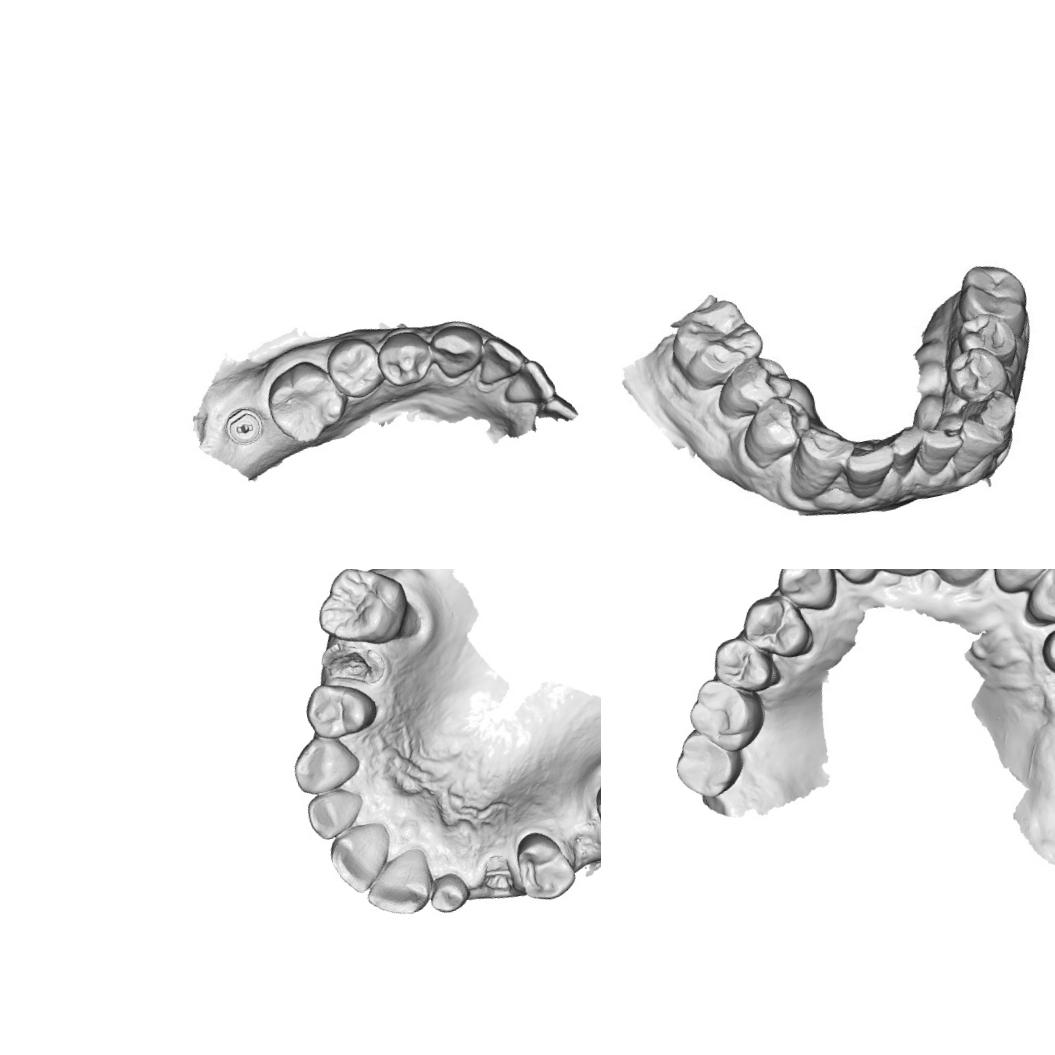canine: (778, 420, 859, 502), (287, 730, 366, 800), (427, 318, 489, 382), (770, 569, 844, 619), (956, 389, 1024, 442), (1018, 569, 1055, 631)
implant_minus: (217, 401, 269, 452)
incisor: (358, 844, 438, 924), (322, 818, 400, 898), (302, 784, 372, 844), (950, 415, 1012, 480), (842, 436, 902, 501), (496, 354, 558, 412), (470, 330, 530, 389), (914, 420, 968, 483), (886, 422, 930, 482), (425, 869, 475, 918), (920, 569, 1019, 593), (981, 569, 1055, 597), (813, 569, 883, 592)
molar: (258, 352, 356, 452), (308, 569, 421, 655), (666, 296, 766, 393), (681, 667, 774, 760), (666, 722, 752, 805), (957, 254, 1031, 334)
premolar: (708, 346, 798, 426), (737, 588, 817, 666), (736, 393, 814, 471), (300, 673, 382, 744), (511, 825, 581, 907), (706, 630, 778, 702), (320, 331, 388, 404), (940, 344, 1014, 405), (372, 327, 438, 392), (954, 308, 1022, 370), (1037, 613, 1055, 679)
